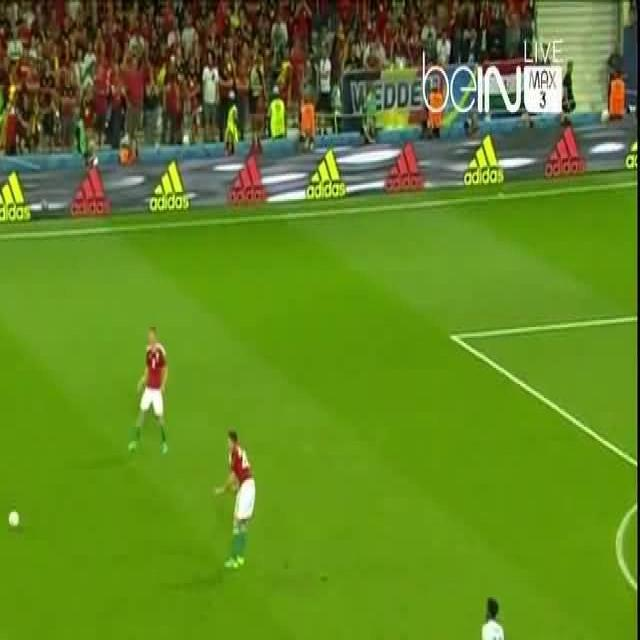ball: (9, 510, 20, 528)
player-white: (213, 426, 255, 570), (129, 327, 169, 455), (480, 597, 515, 640)
